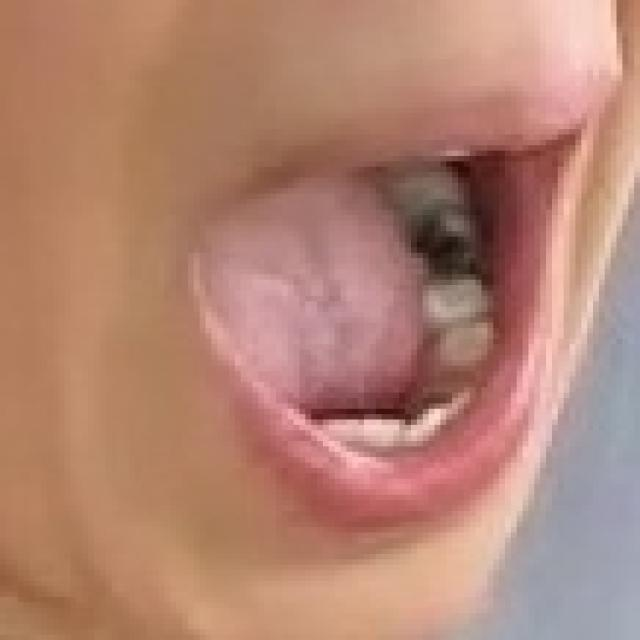open-mouth: (176, 102, 593, 522)
